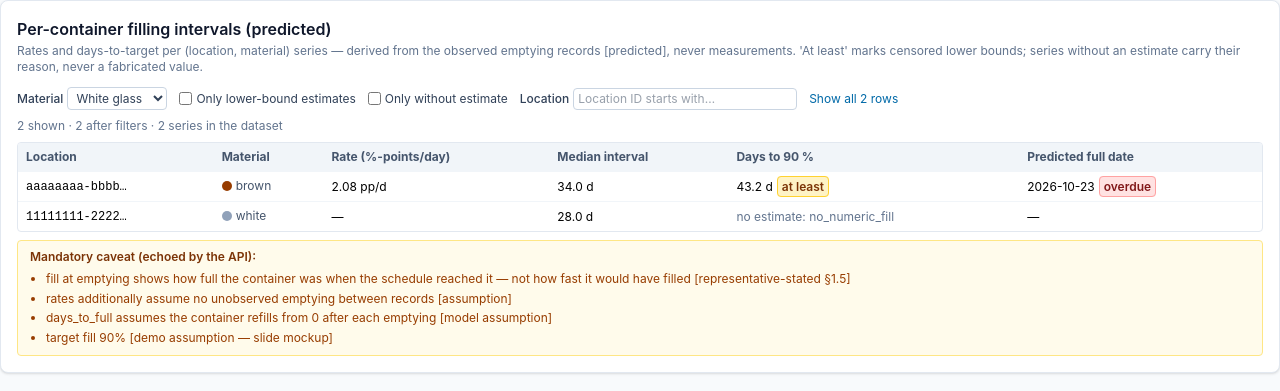
ContainersIntervalPanel — rows › filters by material, lower-bound, without-estimate and location prefix
This screenshot has width=1280, height=391.
Later steps or results of the test are not shown.
Select "White glass" in the dropdown with test id "interval-filter-material": (117, 98) [67,87,167,110]
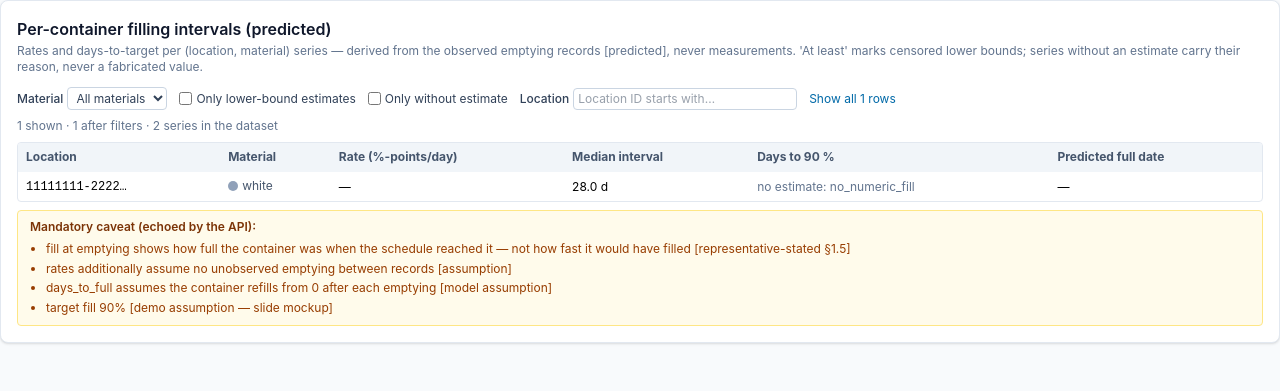
Check: the table with test id "interval-rows" shows "no estimate: no_numeric_fill", box [757,178,915,194]
Select "All materials" in the dropdown with test id "interval-filter-material": (117, 98) [67,87,167,110]
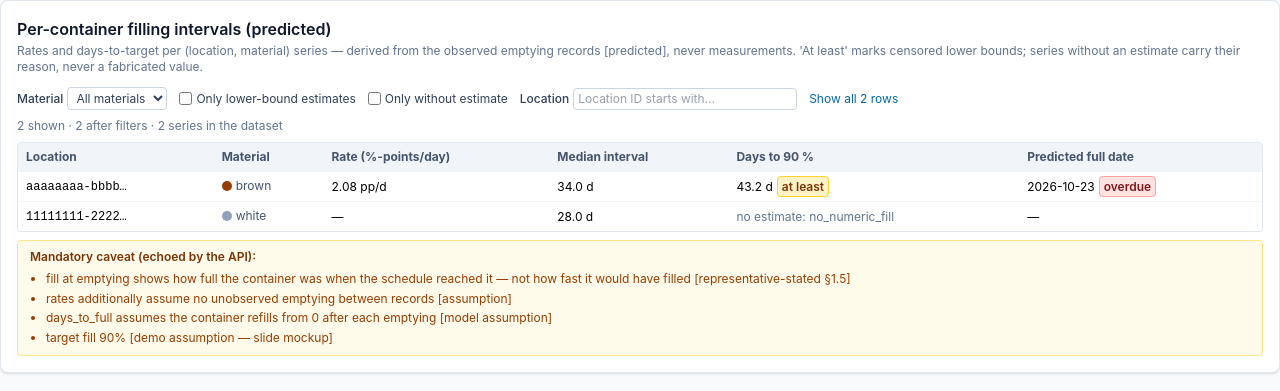
Click the checkbox with test id "interval-filter-lowerbound": (186, 98) [179,92,192,105]
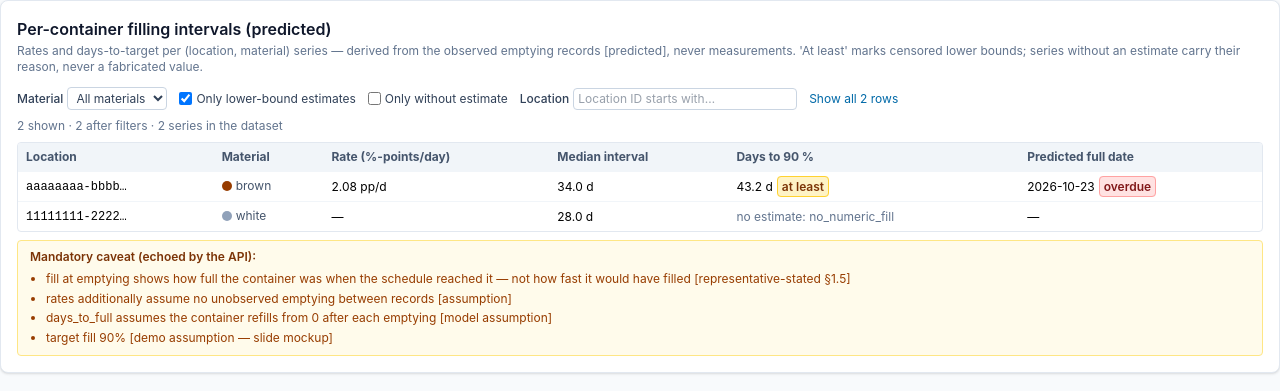
Check: the table with test id "interval-rows" shows "no estimate: no_numeric_fill", box [736,208,894,224]
Check: the table with test id "interval-rows" shows "43.2 d", box [736,178,773,194]
